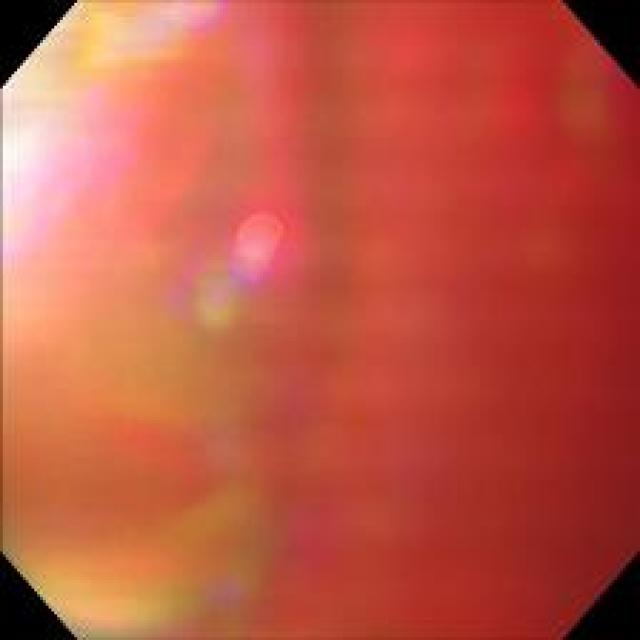color misalignment: (9, 19, 618, 619), (181, 209, 282, 315)
saturation: (5, 80, 122, 255)
